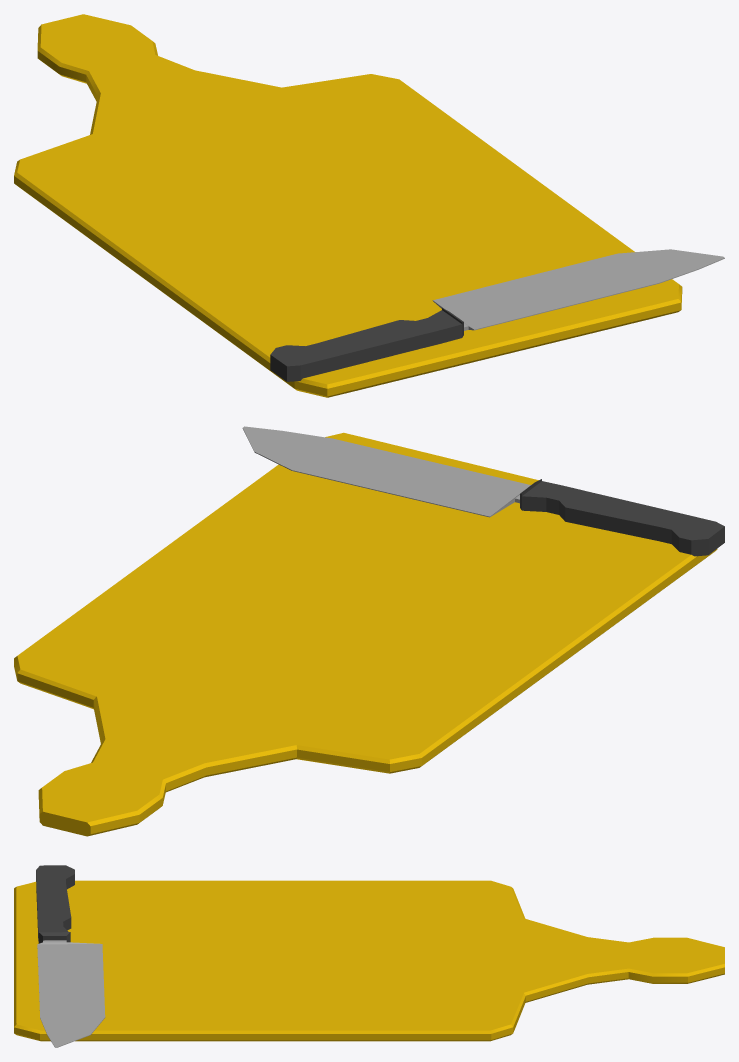
The model's file is Cooking_Board_Empty.fbx.
3 views of the same model, one above another, from view 1: azimuth 30°, elevation 25°; view 2: azimuth 150°, elevation 25°; view 3: azimuth 270°, elevation 25° (orthographic). The views are drawn at different scales.
Visible parts, largest first — view 1: pCube28; view 2: pCube28; view 3: pCube28.
Boxes of the visible parts, x1,y1,x2,y2 form: pCube28: (14, 14, 724, 397); pCube28: (14, 426, 724, 836); pCube28: (14, 865, 724, 1047).
Size of the model in its own units: 18.9 by 1.18 by 32.32.
